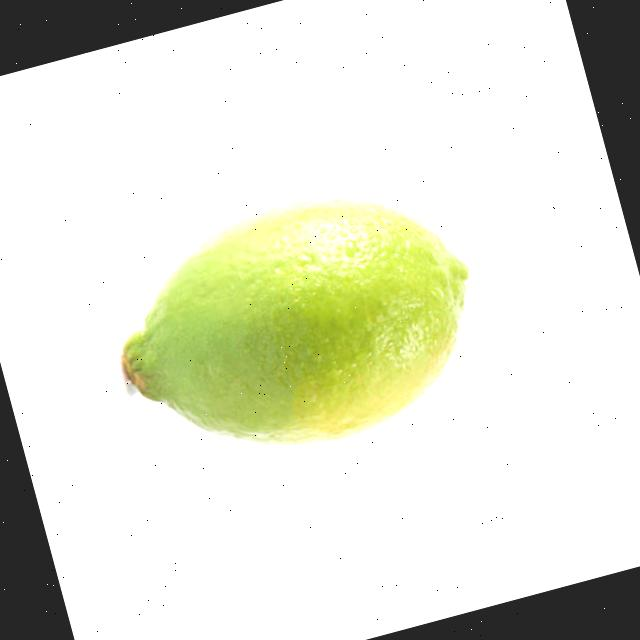Lemon: (92, 160, 508, 490)
